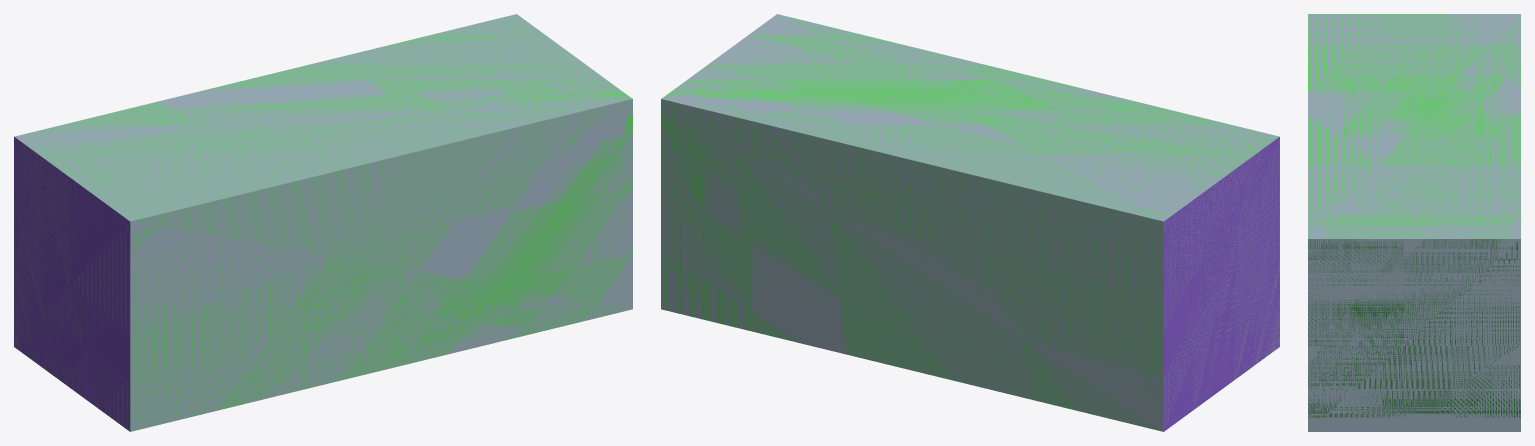
Rendered from CheckingCurrentDensity.obj.
The picture shows the model from 3 angles, left to right: view 1: azimuth 30°, elevation 25°; view 2: azimuth 150°, elevation 25°; view 3: azimuth 270°, elevation 25°; orthographic projection. The views are drawn at different scales.
Parts seen in each view (by area): view 1: Mesh1 Model; view 2: Mesh1 Model; view 3: Mesh1 Model.
Boxes of the visible parts, x1=… form: Mesh1 Model: x1=14, y1=14, x2=632, y2=431; Mesh1 Model: x1=661, y1=14, x2=1279, y2=431; Mesh1 Model: x1=1308, y1=14, x2=1520, y2=431.
Size of the model in its own units: 50 by 20 by 20.
